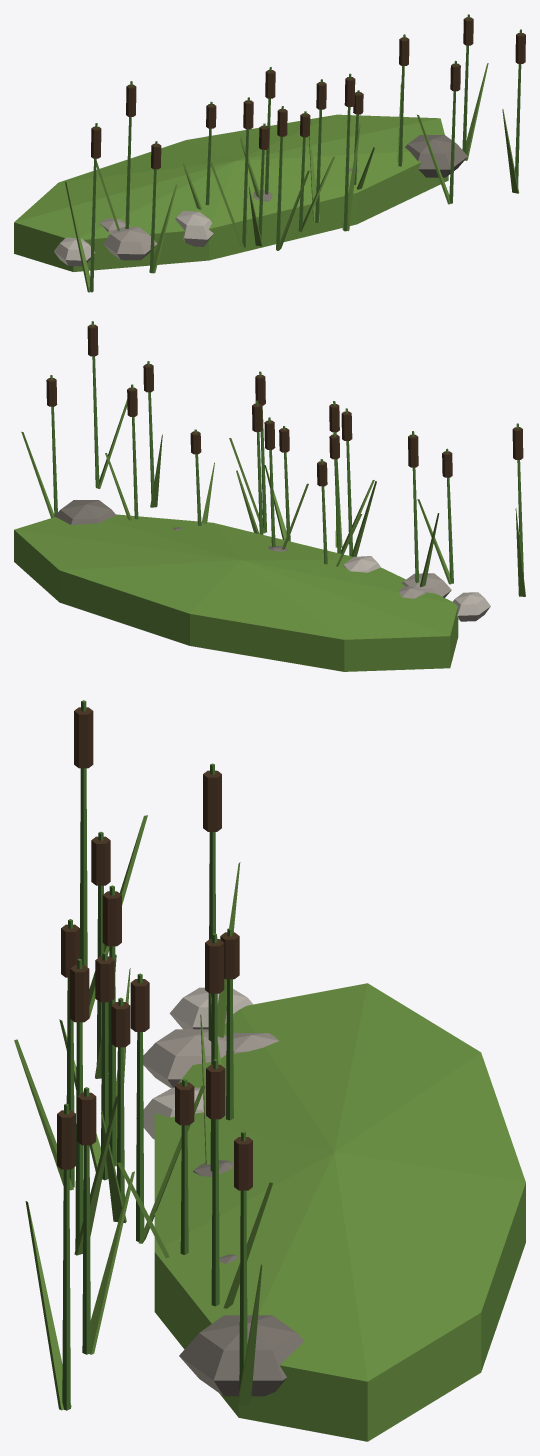
The model's file is reed_bank.glb.
3 views of the same model, one above another, from view 1: azimuth 30°, elevation 25°; view 2: azimuth 150°, elevation 25°; view 3: azimuth 270°, elevation 25° (orthographic). The views are drawn at different scales.
Visible parts, largest first — view 1: biome_riverside_reed_bank; view 2: biome_riverside_reed_bank; view 3: biome_riverside_reed_bank.
Boxes of the visible parts, left/top/right/bottom form: biome_riverside_reed_bank: left=14, top=14, right=525, bottom=292; biome_riverside_reed_bank: left=14, top=321, right=525, bottom=671; biome_riverside_reed_bank: left=14, top=700, right=525, bottom=1441.
Bounding box in the file's own units: 4.72 × 1.98 × 2.41.
